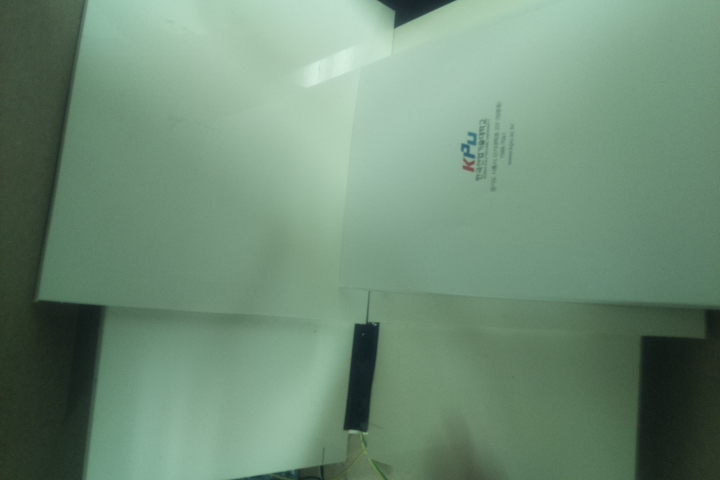book: (335, 1, 720, 311)
